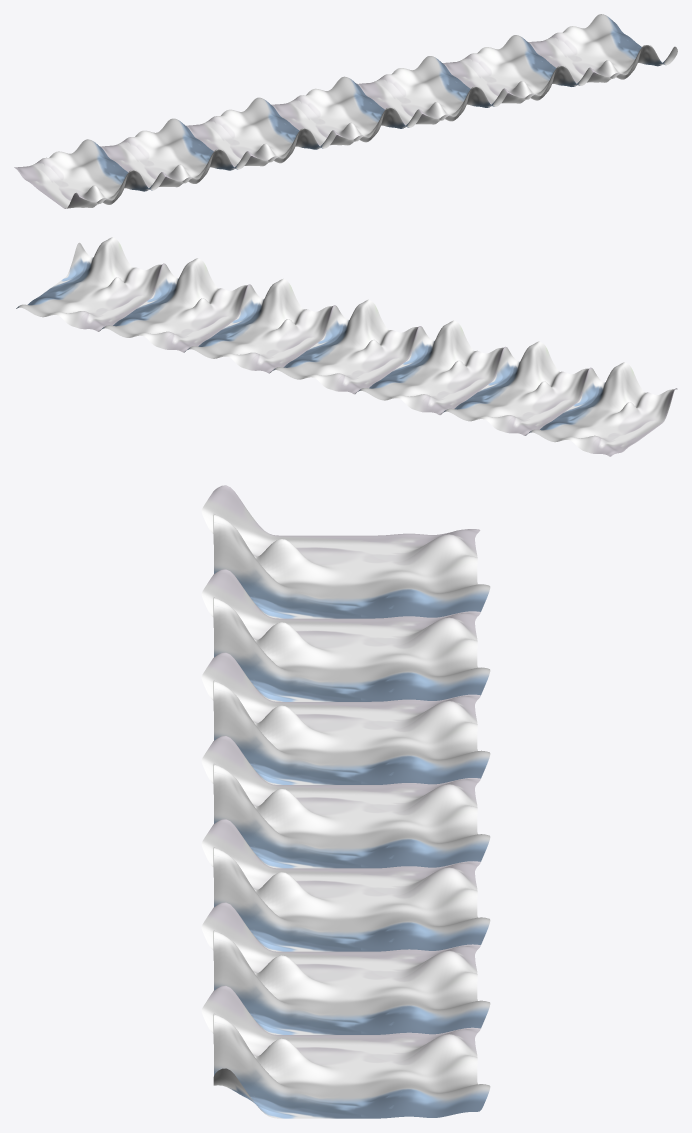
File: terrain 1.fbx
3 views of the same model, one above another, from view 1: azimuth 30°, elevation 25°; view 2: azimuth 150°, elevation 25°; view 3: azimuth 270°, elevation 25° (orthographic). The views are drawn at different scales.
Visible parts, largest first — view 1: Plane.001; view 2: Plane.001; view 3: Plane.001.
Part boxes in pixels (<box>): Plane.001: <box>14,14,677,208</box>; Plane.001: <box>16,237,677,456</box>; Plane.001: <box>201,485,490,1118</box>.
Bounding box in the file's own units: 79707 × 4654 × 16639.
1 material, 1 textured.
